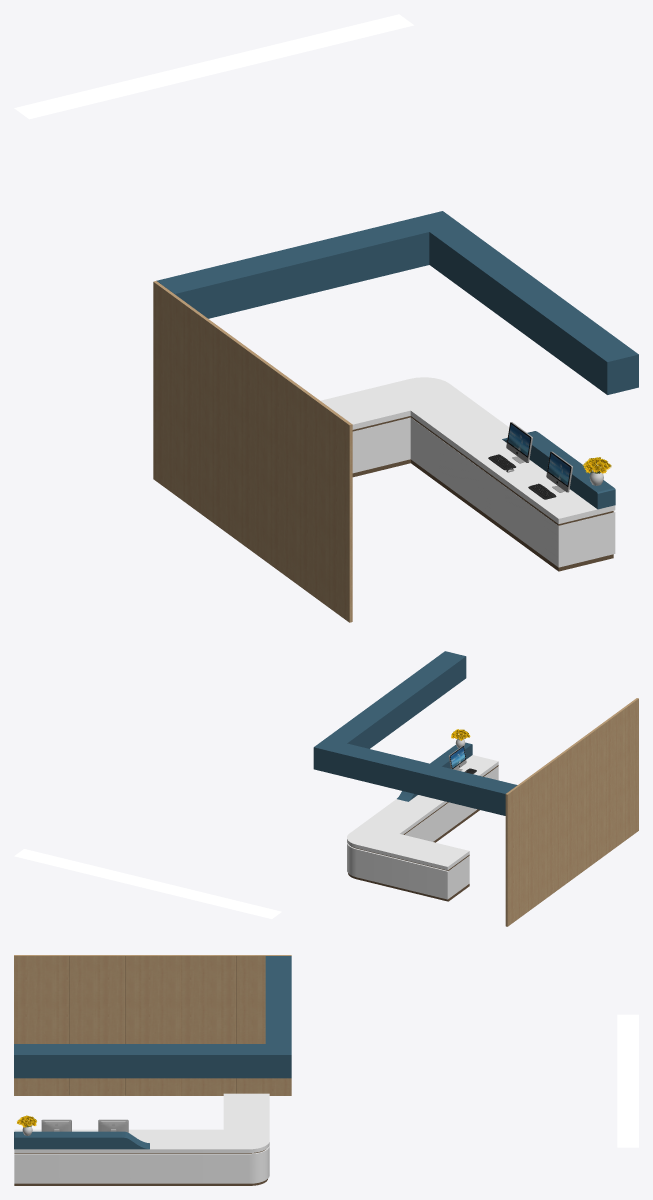
The model's file is reception1-draco.glb.
3 views of the same model, one above another, from view 1: azimuth 30°, elevation 25°; view 2: azimuth 150°, elevation 25°; view 3: azimuth 270°, elevation 25° (orthographic). The views are drawn at different scales.
Parts seen in each view (by area): view 1: Rectangle2123437283_Material.001_0, Line2029228594_blue_0, object 15, object 17, nek_Material_#31_0, Line551_blue_0, Line2029228546_Material.005_0; view 2: Rectangle2123437283_Material.001_0, Line2029228594_blue_0, object 17, object 15, nek_Material_#31_0, Line551_blue_0, Line2029228546_Material.005_0; view 3: Rectangle2123437283_Material.001_0, Line2029228594_blue_0, object 15, object 17, nek_Material_#31_0, Line551_blue_0, Line2029228546_Material.005_0, IMAC_BACKP226_Material_#182_0, IMAC_BACKP225_Material_#182_0.
Boxes of the visible parts, <box> form: Rectangle2123437283_Material.001_0: <box>153,281,352,622</box>; Line2029228594_blue_0: <box>156,211,638,394</box>; object 15: <box>352,417,615,567</box>; object 17: <box>320,377,615,523</box>; nek_Material_#31_0: <box>14,14,413,119</box>; Line551_blue_0: <box>502,431,615,509</box>; Line2029228546_Material.005_0: <box>352,459,613,571</box>; Rectangle2123437283_Material.001_0: <box>505,698,638,926</box>; Line2029228594_blue_0: <box>313,651,517,815</box>; object 17: <box>347,755,498,870</box>; object 15: <box>347,766,498,899</box>; nek_Material_#31_0: <box>14,849,281,918</box>; Line551_blue_0: <box>397,742,472,801</box>; Line2029228546_Material.005_0: <box>348,809,479,901</box>; Rectangle2123437283_Material.001_0: <box>14,955,291,1095</box>; Line2029228594_blue_0: <box>14,956,291,1078</box>; object 15: <box>14,1146,269,1183</box>; object 17: <box>14,1093,269,1152</box>; nek_Material_#31_0: <box>617,1014,638,1147</box>; Line551_blue_0: <box>14,1131,149,1149</box>; Line2029228546_Material.005_0: <box>14,1179,267,1185</box>; IMAC_BACKP226_Material_#182_0: <box>98,1120,128,1132</box>; IMAC_BACKP225_Material_#182_0: <box>42,1120,71,1131</box>.
Bounding box in the file's own units: 7.81 × 3 × 12.16.
26 materials, 11 textured.
